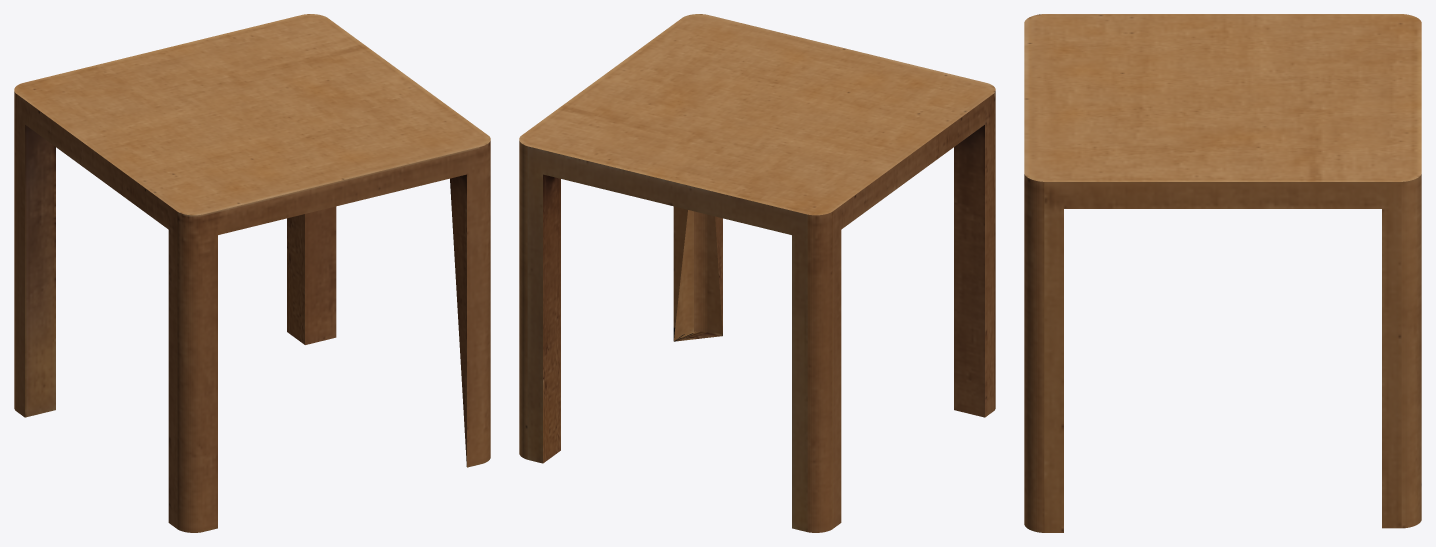
3 renders of one model, left to right at view 1: azimuth 30°, elevation 25°; view 2: azimuth 150°, elevation 25°; view 3: azimuth 270°, elevation 25°, orthographic. The views are drawn at different scales.
Visible parts, largest first — view 1: Node; view 2: Node; view 3: Node.
Boxes of the visible parts, left/top/right/bottom form: Node: left=14, top=14, right=490, bottom=532; Node: left=519, top=14, right=995, bottom=532; Node: left=1024, top=14, right=1421, bottom=532.
Bounding box in the file's own units: 0.7 × 0.6825 × 0.7.
1 material, 1 textured.
